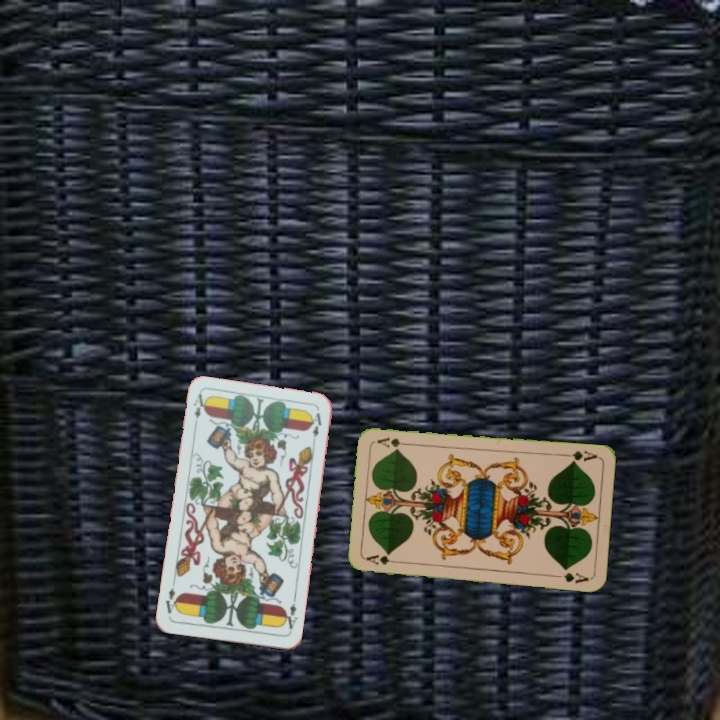EA: (279, 594, 300, 634), (189, 390, 209, 430)
GA: (559, 446, 600, 465), (362, 551, 403, 568)
